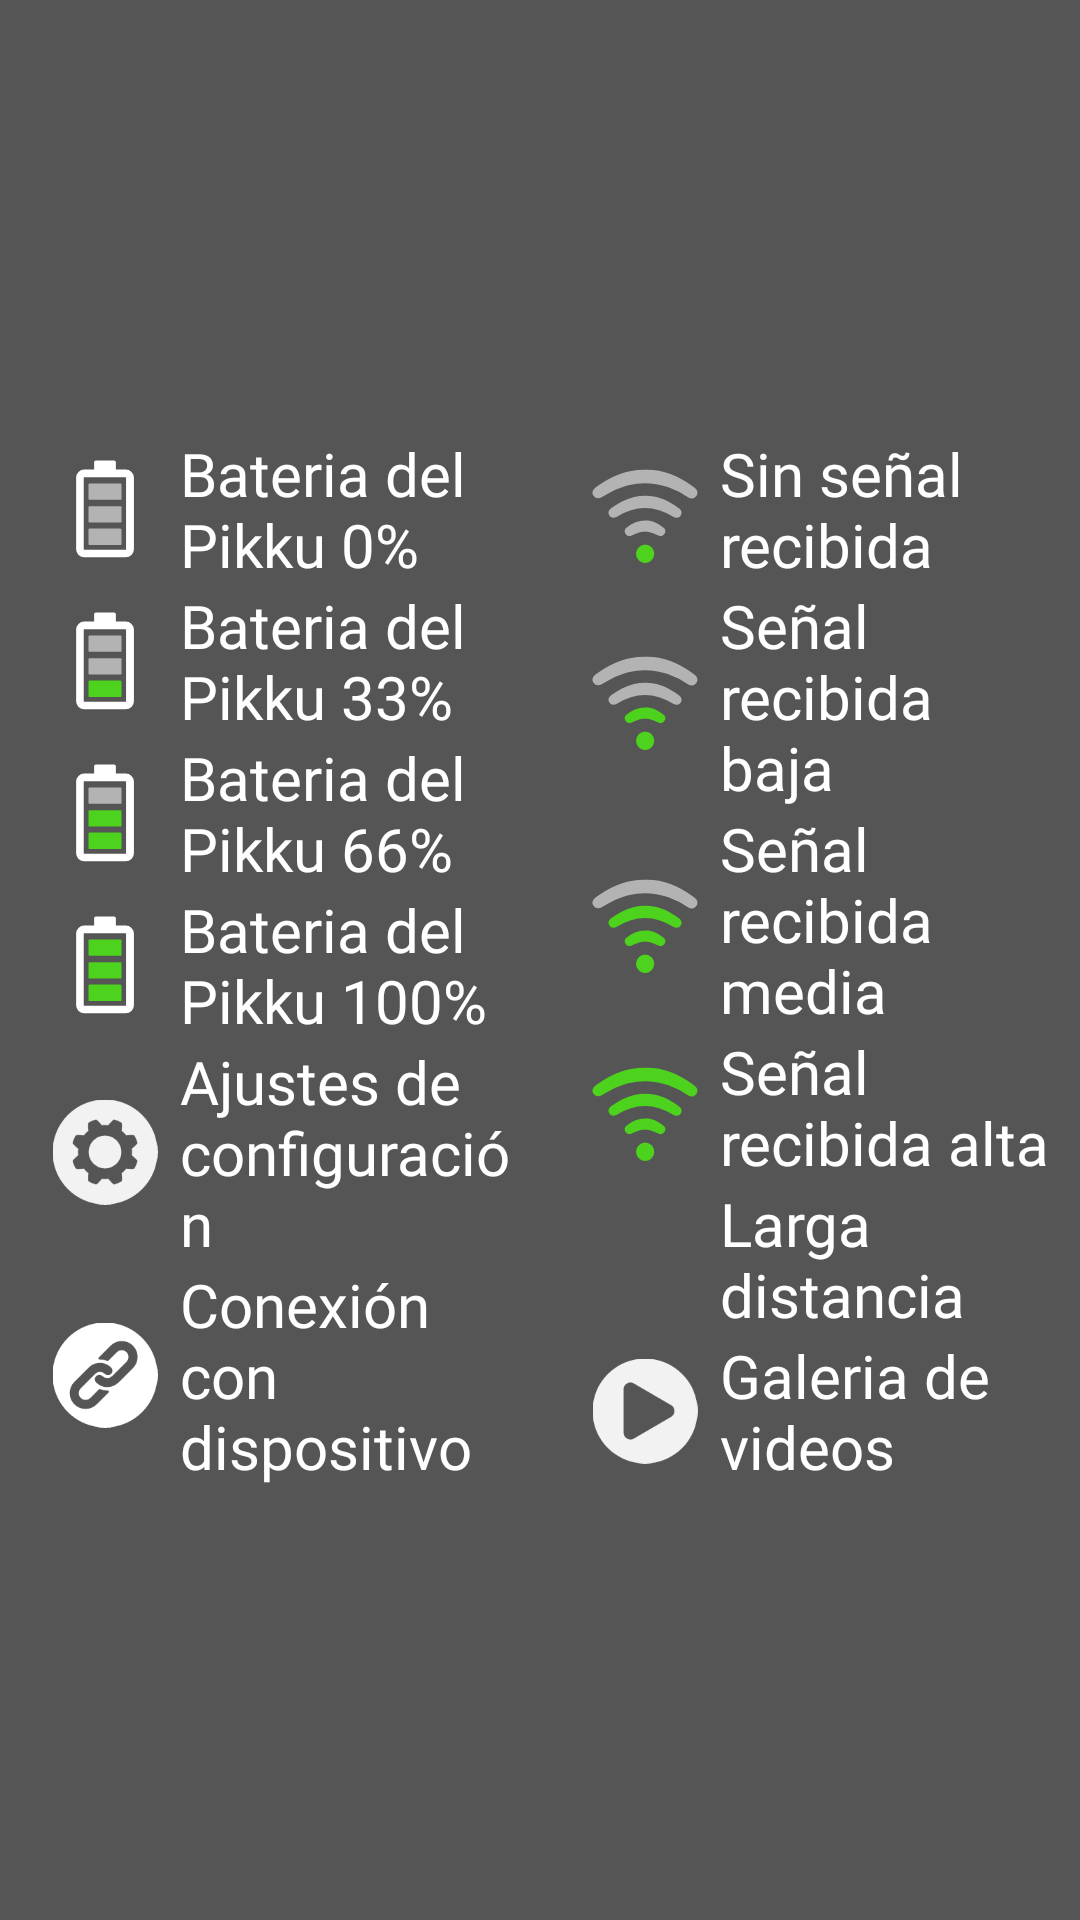

Screen size 1080px×1920px. Icon name, then its box in pixels as (x1, y1, x2, y2):
recurso bateria: (76, 460, 134, 558), (76, 612, 134, 710), (76, 764, 134, 862), (76, 916, 134, 1014)
